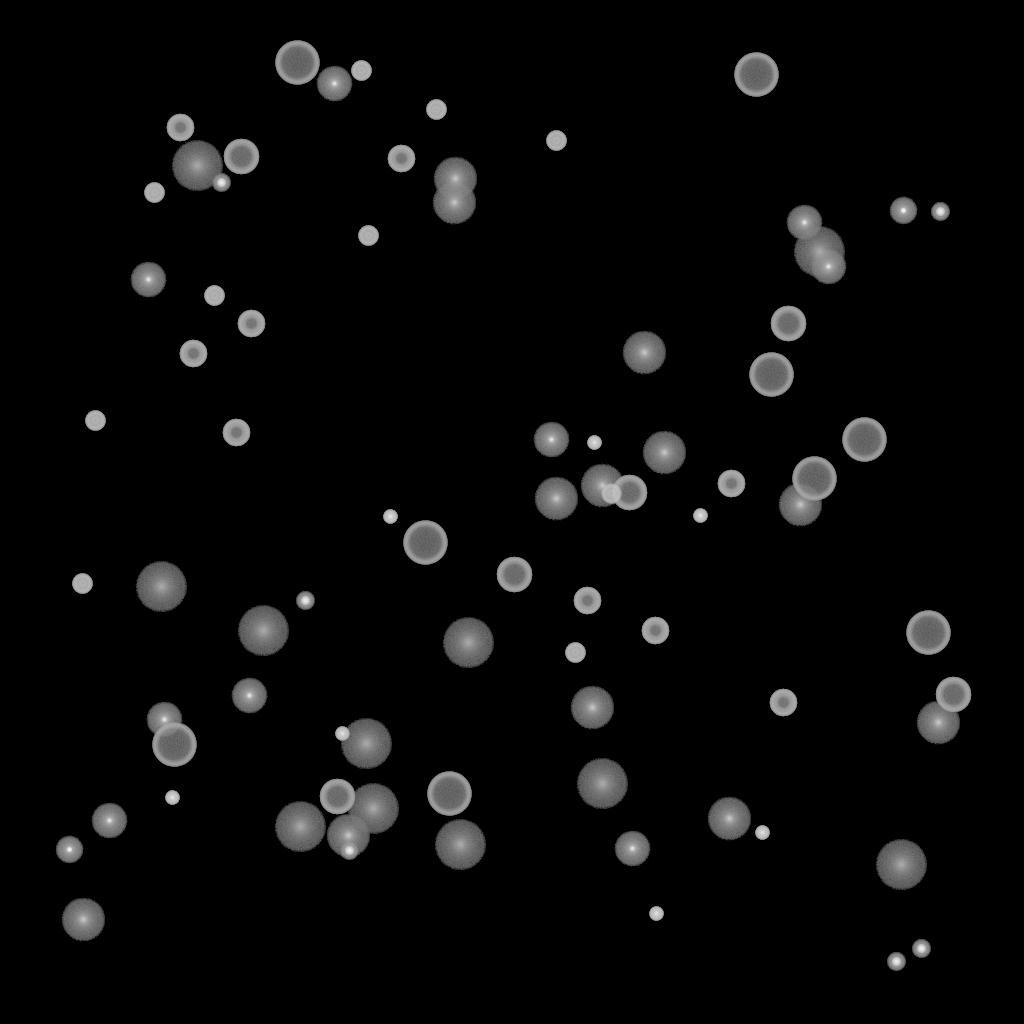depth:-10: (55, 836, 83, 864), (889, 197, 917, 225)
depth:-20: (887, 953, 905, 971), (212, 174, 230, 192), (931, 203, 949, 221), (296, 592, 314, 610), (912, 940, 930, 958), (340, 842, 358, 860)
depth:-30: (165, 791, 179, 805), (383, 510, 397, 524), (649, 907, 663, 921), (755, 826, 769, 840), (587, 436, 601, 450), (693, 509, 707, 523), (335, 727, 349, 741)
depth:-40: (546, 131, 566, 151), (358, 226, 378, 246), (85, 411, 105, 431), (565, 643, 585, 663), (351, 61, 371, 81), (204, 286, 224, 306), (426, 100, 446, 120), (72, 574, 92, 594), (144, 183, 164, 203), (601, 484, 621, 504)
depth:-50: (179, 340, 207, 368), (573, 587, 601, 615), (222, 419, 250, 447), (717, 470, 745, 498), (641, 617, 669, 645), (237, 310, 265, 338), (769, 689, 797, 717), (387, 145, 415, 173), (166, 114, 194, 142)
depth:-60: (611, 475, 647, 511), (770, 306, 806, 342), (319, 779, 355, 815), (223, 139, 259, 175), (496, 557, 532, 593), (935, 677, 971, 713)
depth:-70: (842, 418, 886, 462), (152, 723, 196, 767), (792, 457, 836, 501), (749, 353, 793, 397), (734, 53, 778, 97), (427, 772, 471, 816), (275, 41, 319, 85), (906, 611, 950, 655), (403, 521, 447, 565)
depth:0: (810, 249, 846, 285), (146, 702, 182, 738), (614, 831, 650, 867), (786, 205, 822, 241), (91, 803, 127, 839), (231, 678, 267, 714), (533, 422, 569, 458), (130, 262, 166, 298), (316, 66, 352, 102)
depth:10: (433, 157, 477, 201), (326, 814, 370, 858), (580, 464, 624, 508), (916, 701, 960, 745), (642, 431, 686, 475), (61, 898, 105, 942), (432, 181, 476, 225), (622, 331, 666, 375), (534, 477, 578, 521), (778, 483, 822, 527), (570, 686, 614, 730), (707, 797, 751, 841)
depth:20: (442, 618, 494, 668), (434, 820, 486, 870), (171, 141, 223, 191), (135, 562, 187, 612), (347, 784, 399, 834), (793, 227, 845, 277), (274, 802, 326, 852), (875, 840, 927, 890), (576, 759, 628, 809), (340, 719, 392, 769), (237, 606, 289, 656)
